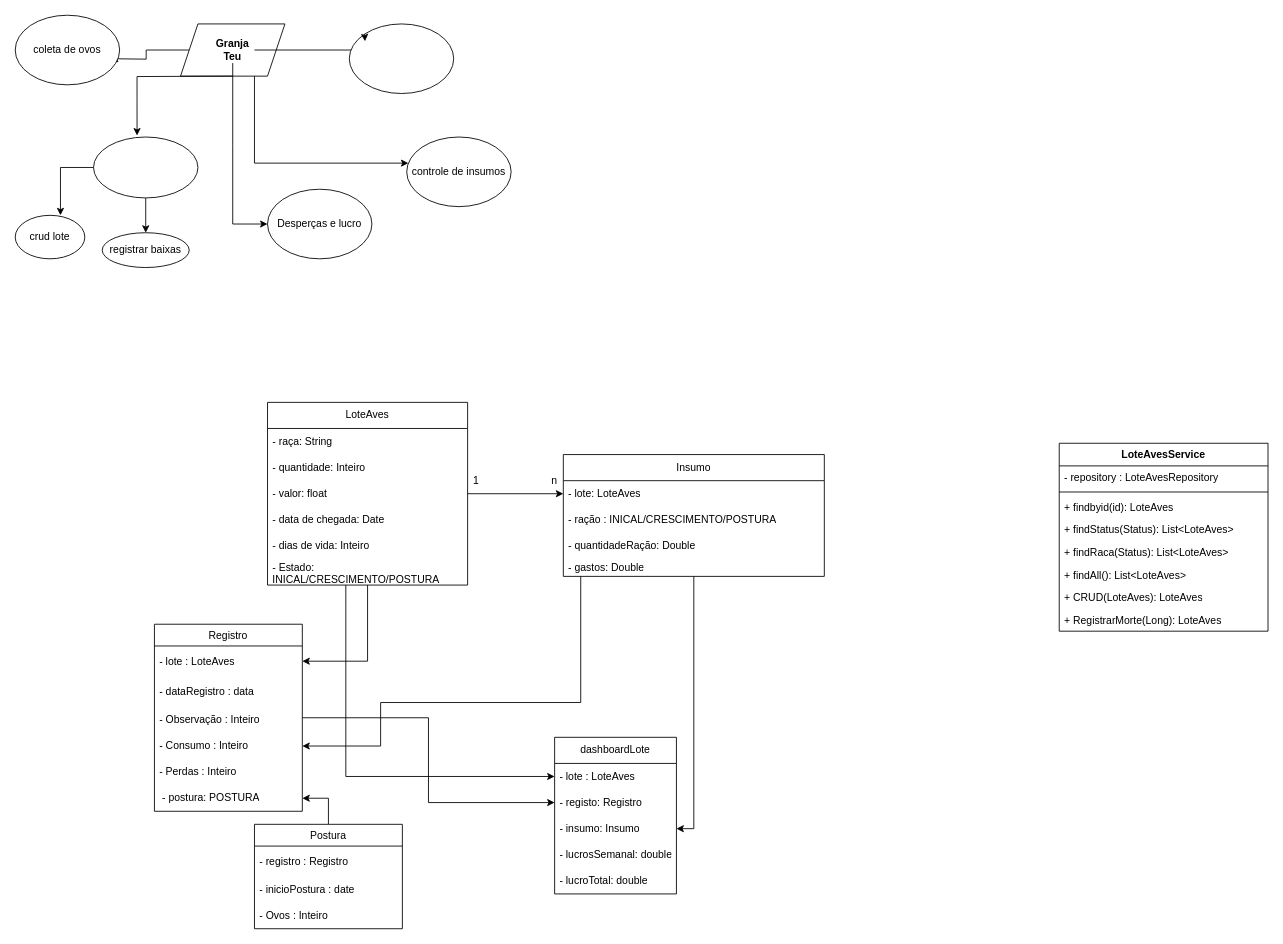
Image size: 1283x944. Some labels were removed from this diagram. Here are the shapes that lost their labels. From the top down, the centre of each, then its label:
point (401, 58): cronograma de manejo
point (145, 167): lote de aves
